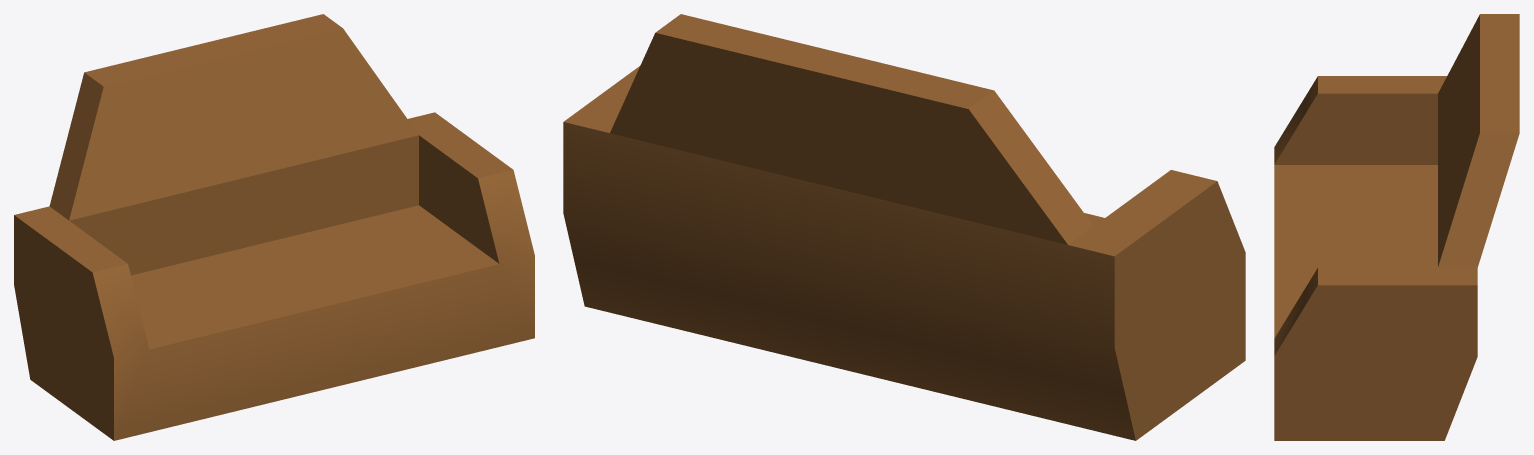
Rendered from sofa01.FBX.
3 views of the same model, side by side, from view 1: azimuth 30°, elevation 25°; view 2: azimuth 150°, elevation 25°; view 3: azimuth 270°, elevation 25° (orthographic). The views are drawn at different scales.
Visible parts, largest first — view 1: sofa; view 2: sofa; view 3: sofa.
Part boxes in pixels (x1,y1,x2,y2): sofa: [14, 14, 534, 440]; sofa: [563, 14, 1245, 440]; sofa: [1274, 14, 1519, 440].
Size of the model in its own units: 78.74 by 46.15 by 39.08.
Materials: 1 (1 with a texture image).
